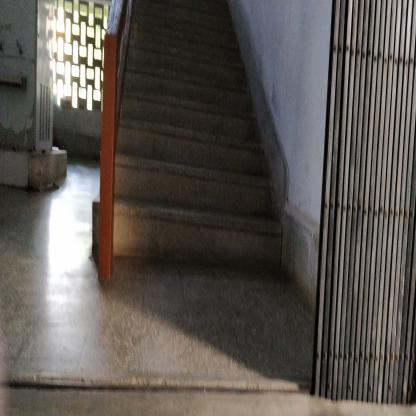stairs: (133, 56, 250, 287)
